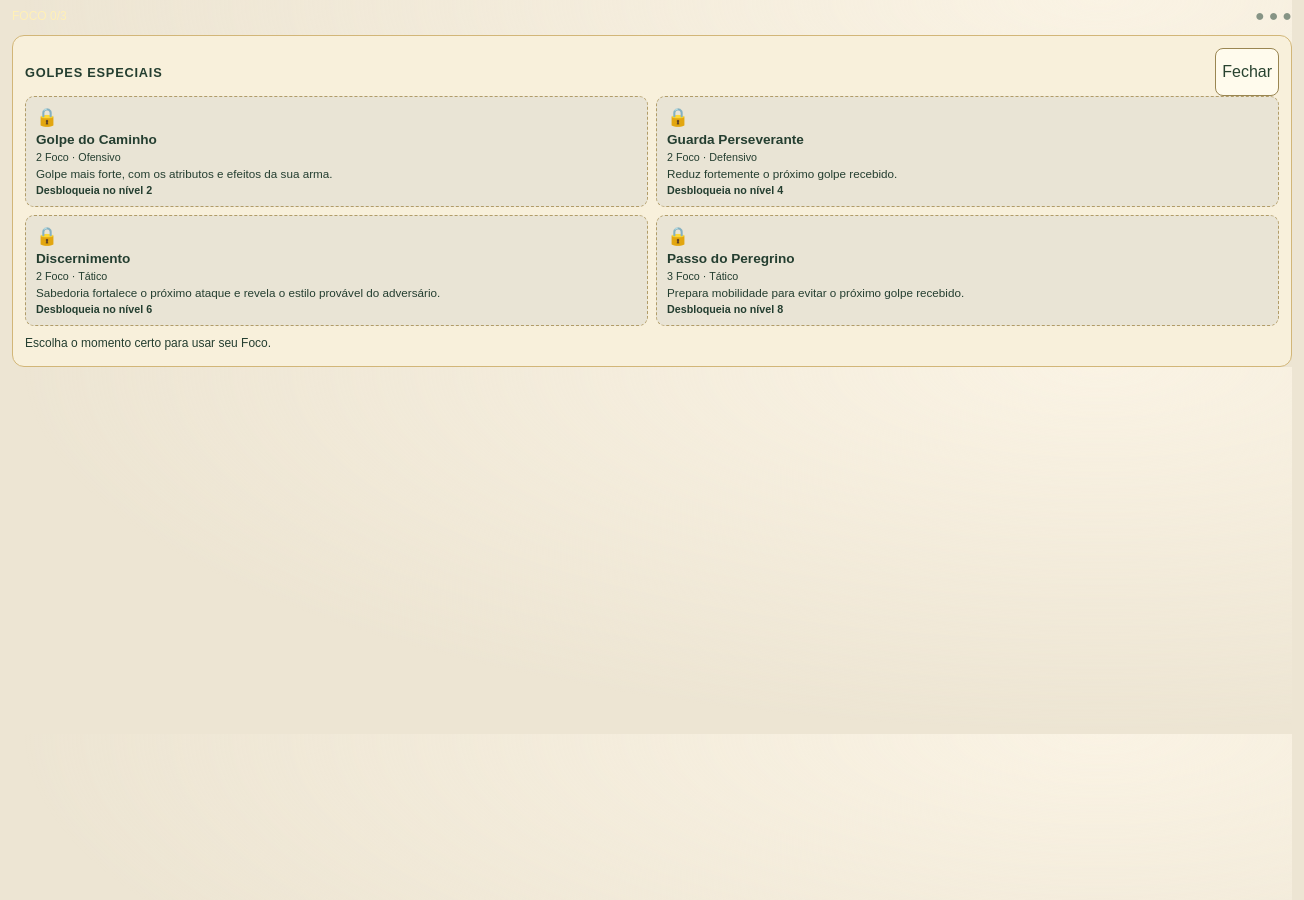
nível 1 explica locks e Foco mecânico sem executar especial
Click the button "Discernimento".
click(83, 258)  # box [25,215,648,326]
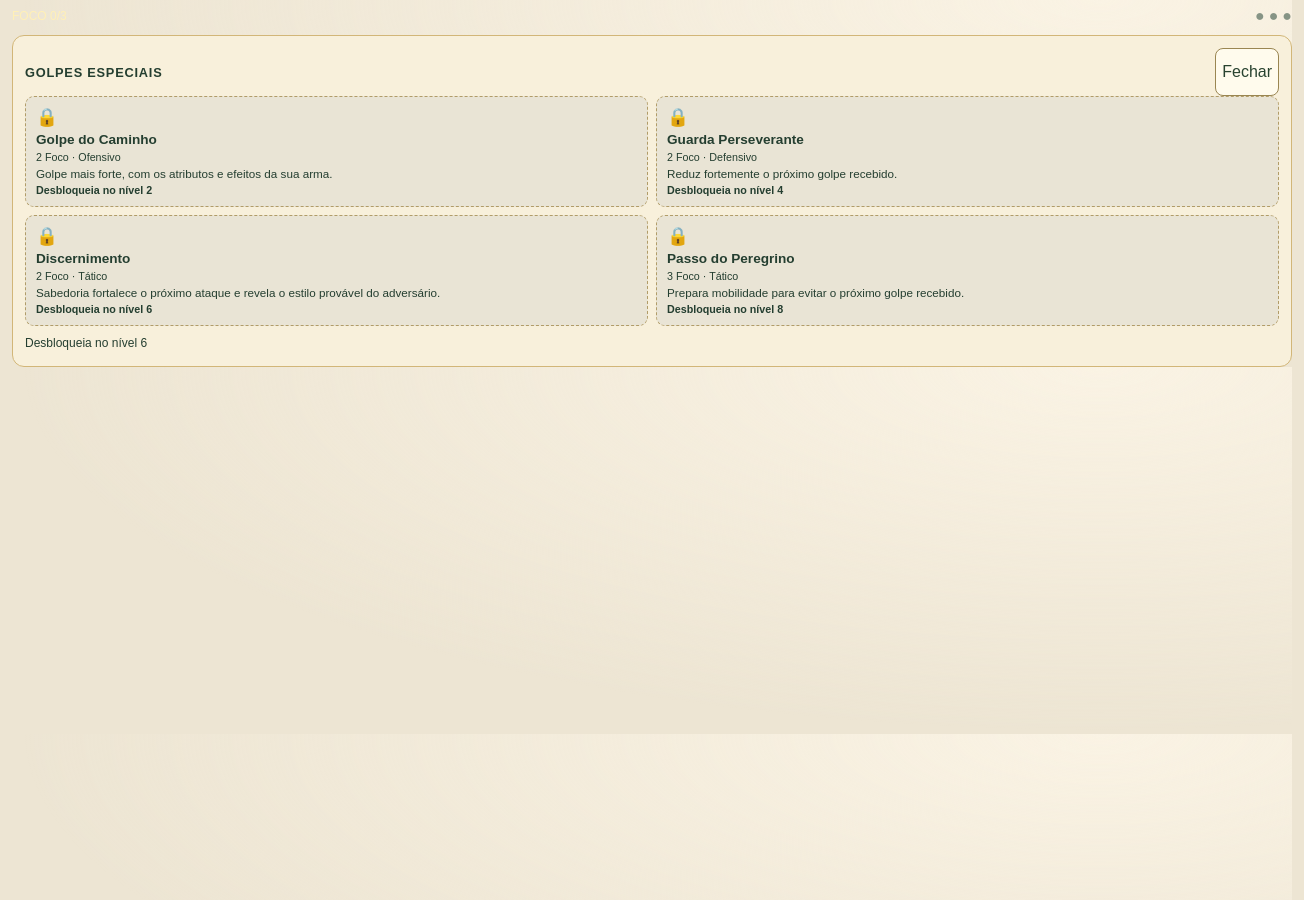
Expected: the number of buttons is 5, [1215,48,1279,96]; [25,96,648,207]; [656,96,1279,207]; [25,215,648,326]; [656,215,1279,326]
Expected: the message reads "Desbloqueia no nível 6", [25,336,147,350]
